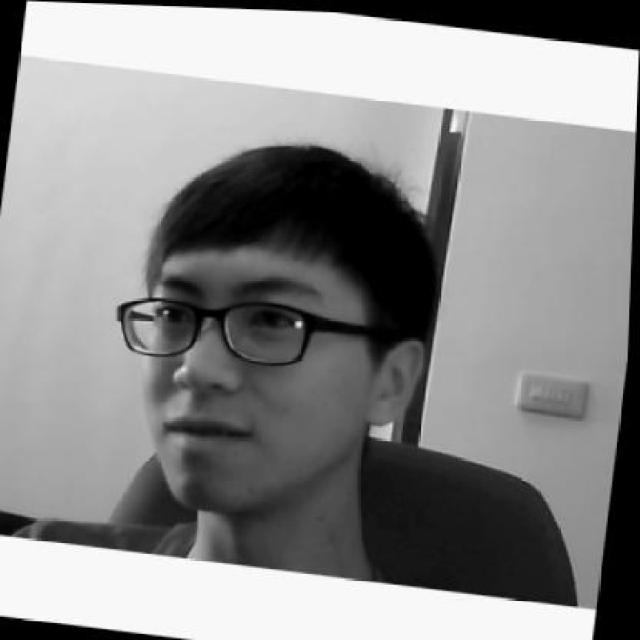attentif: (95, 118, 452, 533)
